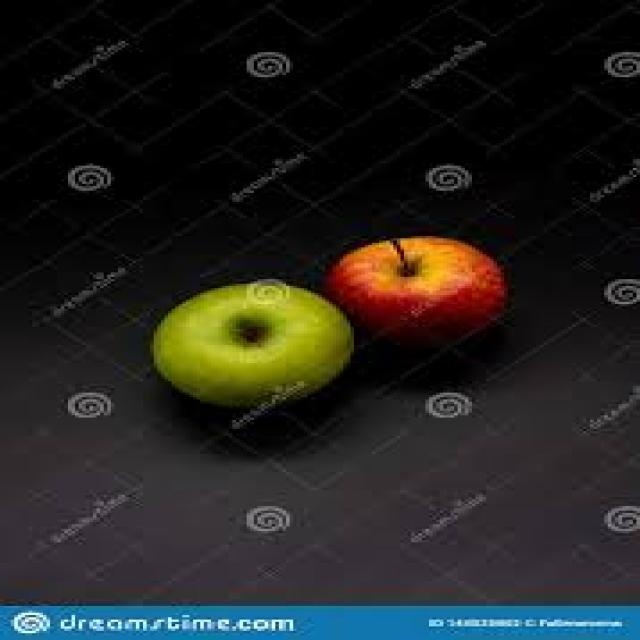agrume: (87, 248, 392, 421), (278, 167, 516, 330)
